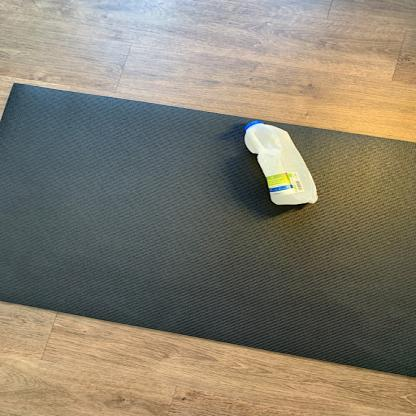trash: (243, 119, 320, 207)
